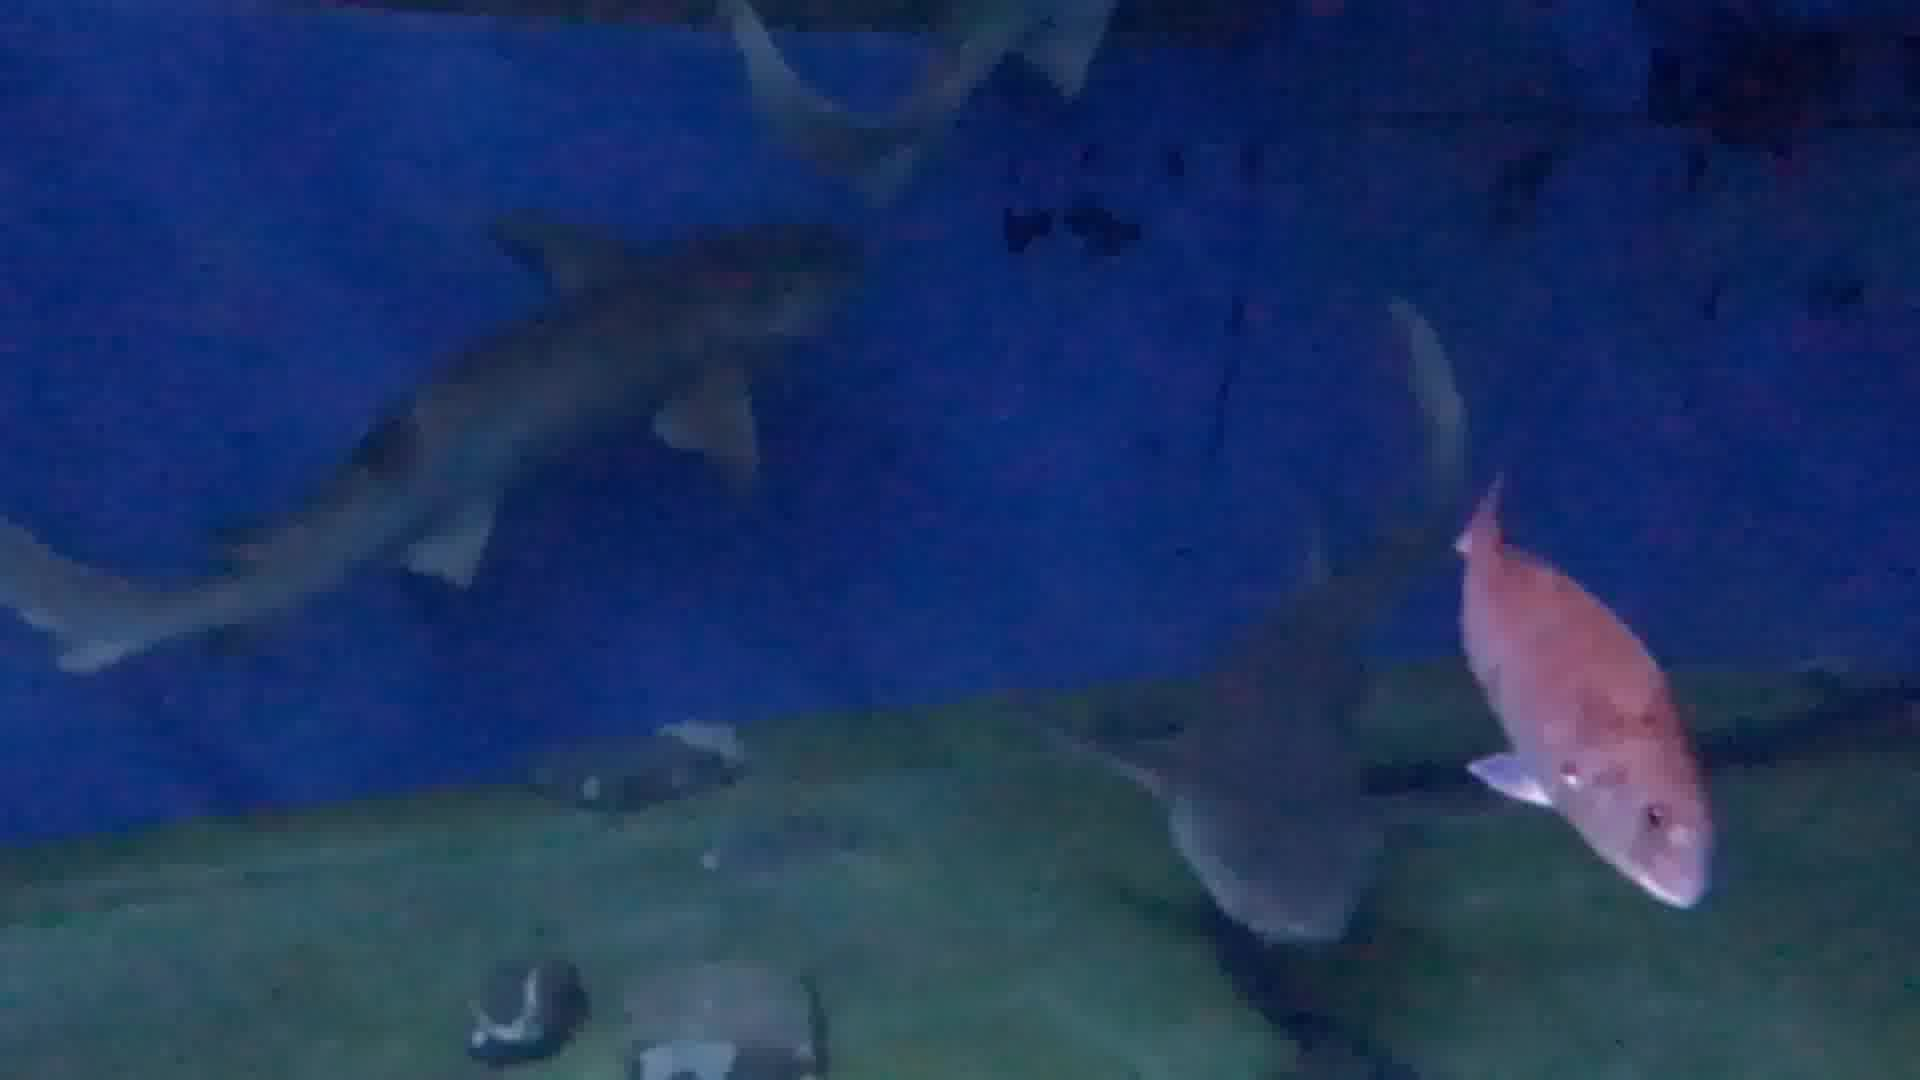Nebrius ferrugineus: (187, 206, 909, 659), (1044, 389, 1474, 984)
